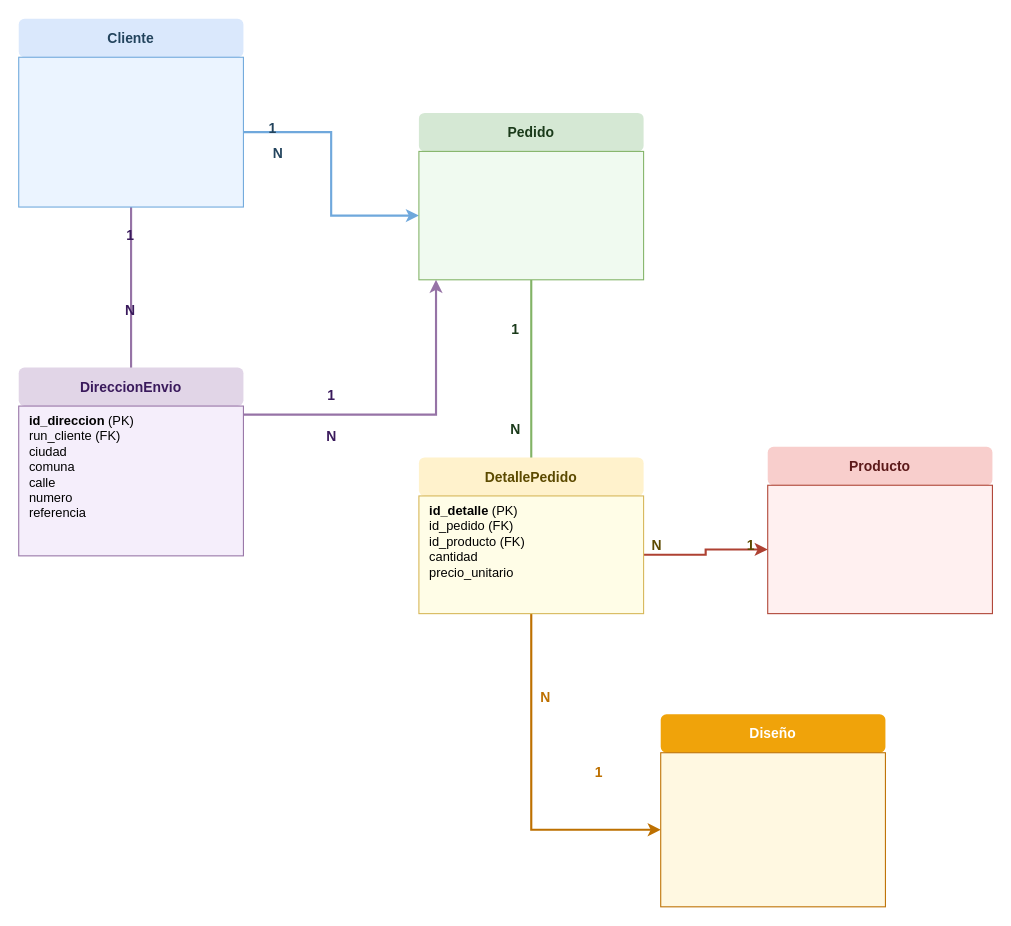
The diagram is 1011 pixels wide and 926 high, and some of its shapes have lost their labels. Here are the shapes that lost their labels. From the top down, the centre of each, then its label:
the point at 130,131: run (PK) primer_nombre segundo_nombre ap_paterno ap_materno correo telefono
the point at 531,215: id_pedido (PK) run_cliente (FK) id_direccion (FK) fecha estado total
the point at 879,549: id_producto (PK) tipo_producto valor stock estado
the point at 772,829: id_diseño (PK) id_detalle (FK) tamano a_color precio foto dibujo
